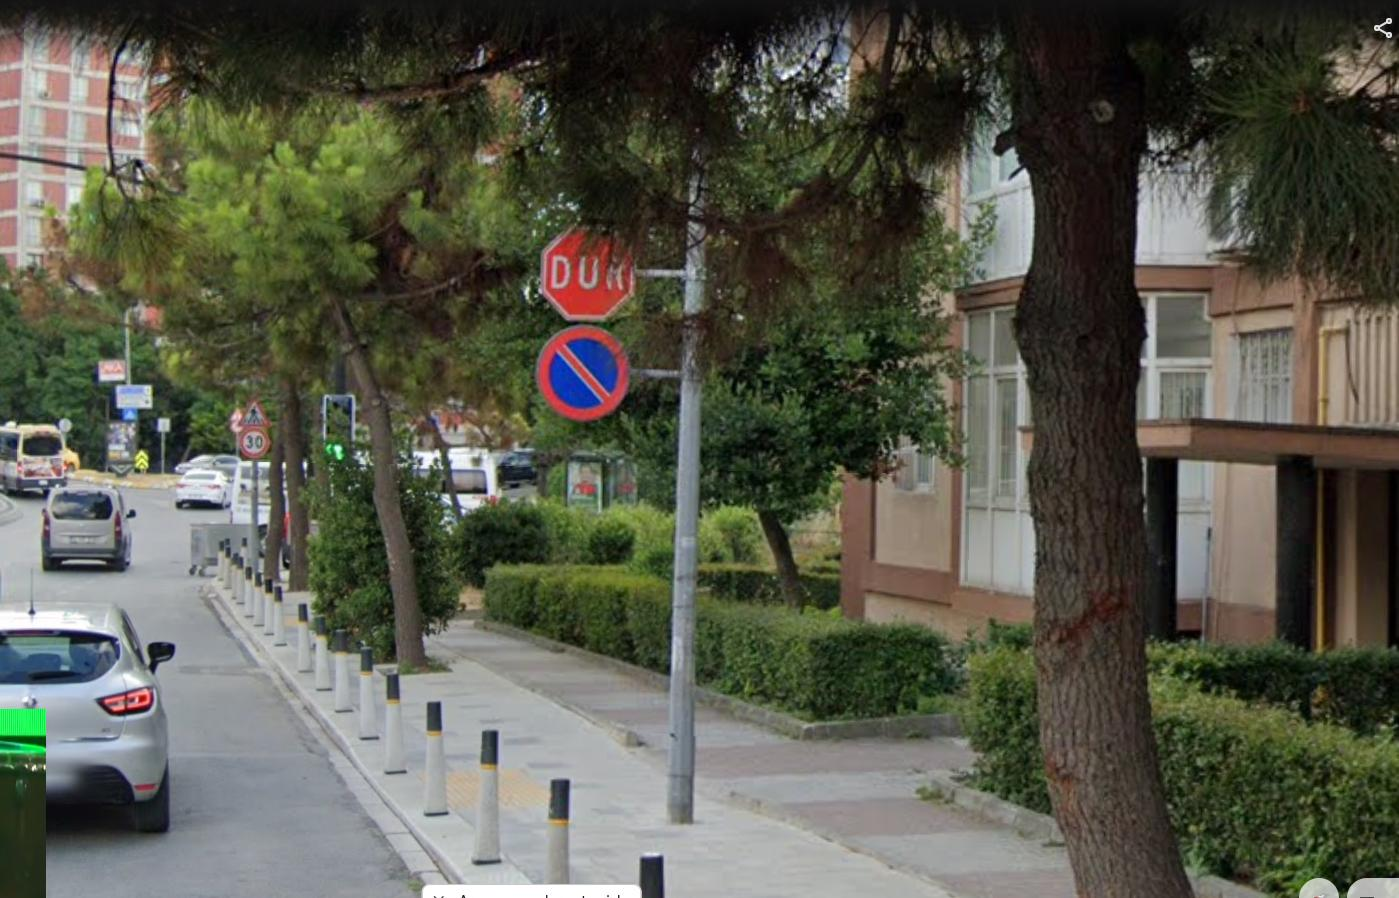nopark: (536, 325, 631, 419)
stop: (539, 221, 636, 320)
